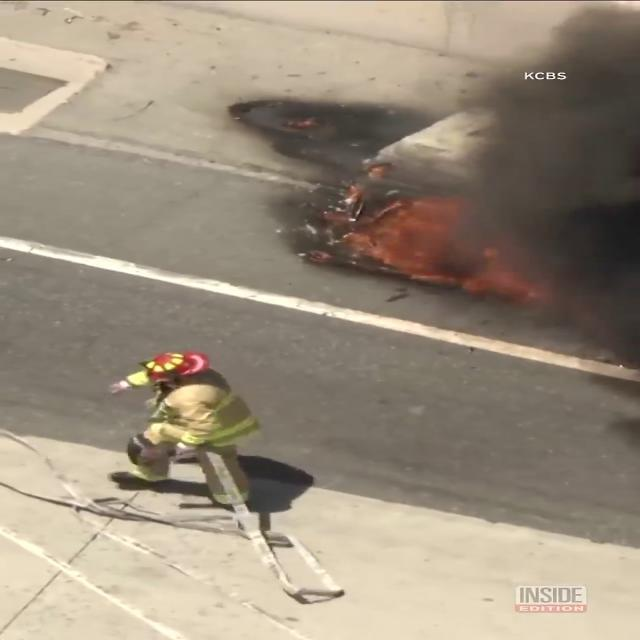Smoke: (424, 2, 638, 310)
